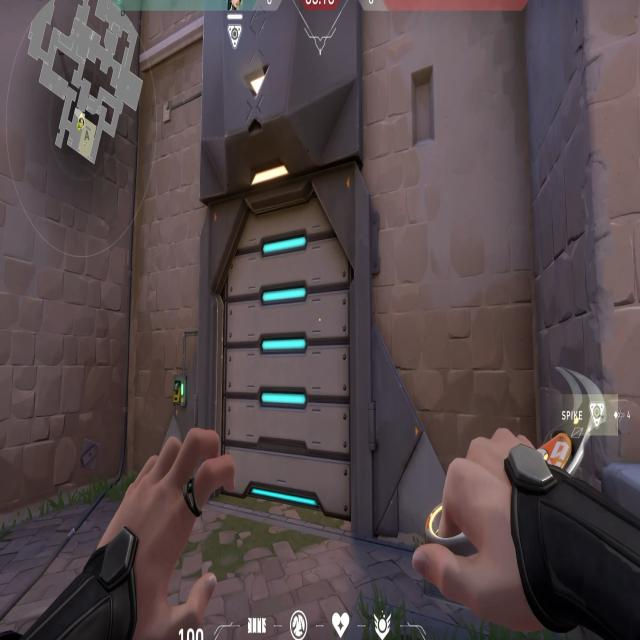A_Door: (197, 187, 389, 550)
